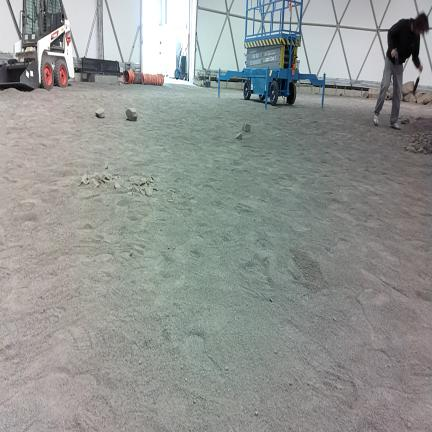Rock: (403, 81, 414, 96), (417, 93, 431, 104), (126, 108, 137, 121), (368, 88, 380, 98), (90, 178, 99, 187), (96, 108, 104, 118), (81, 174, 88, 185), (403, 94, 412, 102), (242, 123, 250, 132), (415, 92, 423, 101), (409, 94, 416, 103), (145, 187, 152, 196), (386, 90, 392, 100), (91, 173, 99, 180), (406, 146, 415, 152), (114, 182, 121, 189), (414, 143, 421, 150), (141, 178, 147, 185), (361, 92, 368, 98), (401, 119, 409, 124), (236, 133, 242, 139), (407, 422, 411, 428), (254, 411, 258, 416), (193, 398, 196, 404), (274, 349, 277, 354), (225, 366, 228, 370)
